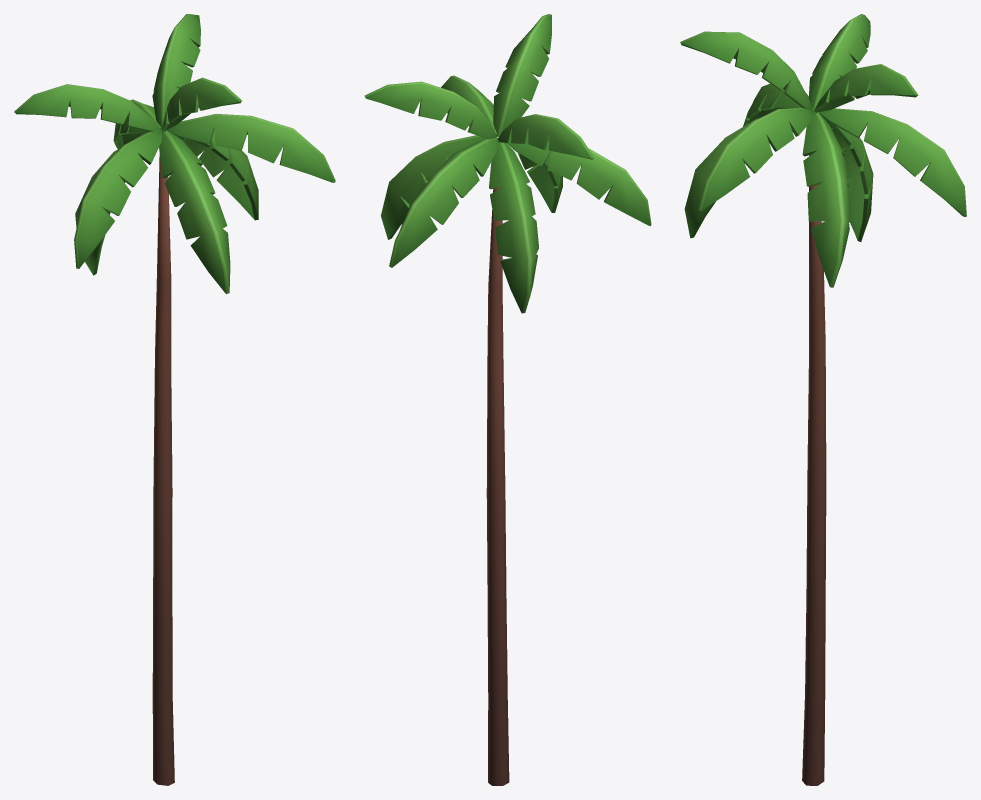
File: Palm_03.glb
The picture shows the model from 3 angles, left to right: view 1: azimuth 30°, elevation 25°; view 2: azimuth 150°, elevation 25°; view 3: azimuth 270°, elevation 25°; orthographic projection. The views are drawn at different scales.
Parts seen in each view (by area): view 1: Palm_03; view 2: Palm_03; view 3: Palm_03.
Part boxes in pixels (x1,y1,x2,y2): Palm_03: (14,14,335,785); Palm_03: (364,14,651,785); Palm_03: (680,14,966,785).
Size of the model in its own units: 7.78 by 22.67 by 7.82.
Materials: 1 (1 with a texture image).
